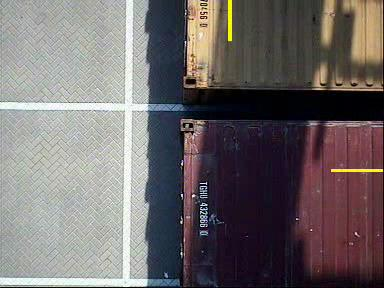groundmarker_2: (134, 238, 193, 273), (135, 88, 193, 123)
